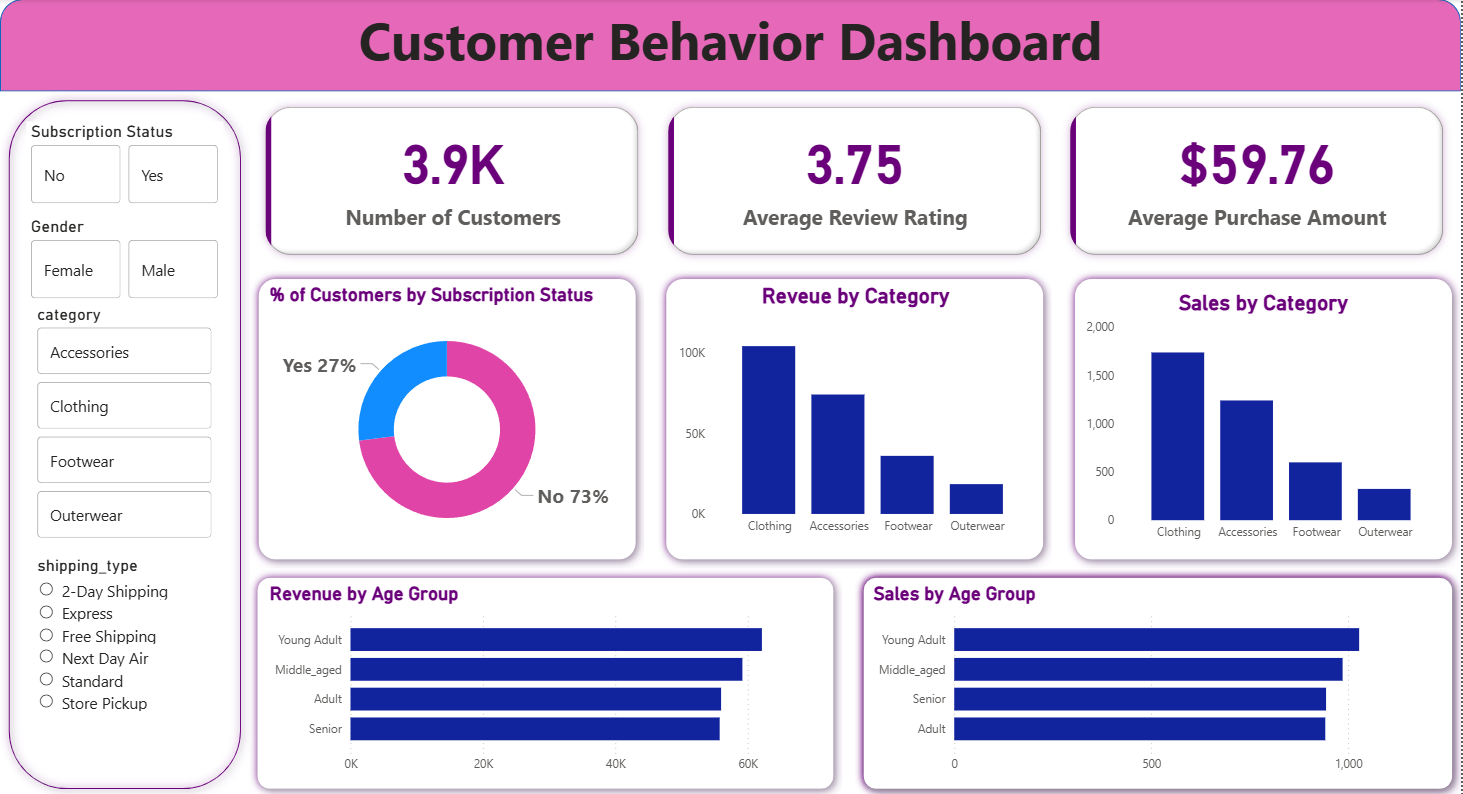

The page's visual inventory and layout, read from the dashboard file:
{"tool":"powerbi","page":{"name":"Page 1","canvas":[1500,820],"ordinal":0},"visuals":[{"type":"cardVisual","fields":{"Data":["customer_behavior customers.Number of Customers","customer_behavior customers.Average Review Rating","customer_behavior customers.Average Purchase Amount"]},"box":[256.4,94.9,1243.9,184.2],"z":0},{"type":"shape","box":[0,0,1500.3,94.9],"z":1000},{"type":"textbox","box":[0,0,1500.3,94.9],"z":2000},{"type":"shape","box":[256.4,279.1,405.2,306],"z":3000},{"type":"donutChart","title":"% of Customers by Subscription Status","fields":{"Category":["customer_behavior customers.subscription_status"],"Y":["CountNonNull(customer_behavior customers.customer_id)"]},"box":[272,293.3,374,277.7],"z":4000},{"type":"shape","box":[1095.1,279.1,405.2,306],"z":5000},{"type":"shape","box":[675.8,279.1,405.2,306],"z":6000},{"type":"clusteredColumnChart","title":"Reveue  by Category","fields":{"Y":["Sum(customer_behavior customers.purchase_amount)"],"Category":["customer_behavior customers.category"]},"box":[691.4,293.3,374,266.3],"z":7000},{"type":"clusteredColumnChart","title":"Sales  by Category","fields":{"Y":["CountNonNull(customer_behavior customers.customer_id)"],"Category":["customer_behavior customers.category"]},"box":[1110.7,298.9,374,266.3],"z":8000},{"type":"shape","box":[0,94.9,256.4,725.4],"z":9000},{"type":"advancedSlicerVisual","title":"Subscription Status","fields":{"Values":["customer_behavior customers.subscription_status"]},"box":[27.3,125.4,202.6,90.1],"z":10000},{"type":"advancedSlicerVisual","title":"Gender","fields":{"Values":["customer_behavior customers.gender"]},"box":[27.3,223.5,202.6,90.1],"z":11000},{"type":"listSlicer","fields":{"Values":["customer_behavior customers.shipping_type"]},"box":[33.8,570.9,188.1,212.3],"z":12000},{"type":"advancedSlicerVisual","fields":{"Values":["customer_behavior customers.category"]},"box":[33.8,313.6,189.8,246],"z":13000},{"type":"shape","box":[255.7,585.3,609.5,234.8],"z":14000},{"type":"clusteredBarChart","title":"Revenue by Age Group","fields":{"Y":["Sum(customer_behavior customers.purchase_amount)"],"Category":["customer_behavior customers.age_group"]},"box":[271.8,599.8,578.9,204.2],"z":15000},{"type":"shape","box":[878,585.3,622.3,234.8],"z":16000},{"type":"shape","box":[877.7,585.2,622.3,234.8],"z":17000},{"type":"clusteredBarChart","title":"Sales by Age Group","fields":{"Y":["CountNonNull(customer_behavior customers.customer_id)"],"Category":["customer_behavior customers.age_group"]},"box":[892.5,599.8,593.4,204.2],"z":18000}]}

Visuals, with their boxes in screenshot pixels (x1, y1, x2, y2), scaled from the page's 1500x820 canvas onto the 1463x794 screenshot:
cardVisual - customer_behavior customers.Number of Customers x customer_behavior customers.Average Review Rating: 250:92:1462:270
shape: 0:0:1462:92
textbox: 0:0:1462:92
shape: 250:270:645:567
"% of Customers by Subscription Status" donutChart: 265:284:630:553
shape: 1068:270:1462:567
shape: 659:270:1054:567
"Reveue  by Category" clusteredColumnChart: 674:284:1039:542
"Sales  by Category" clusteredColumnChart: 1083:289:1448:547
shape: 0:92:250:793
"Subscription Status" advancedSlicerVisual: 27:121:224:209
"Gender" advancedSlicerVisual: 27:216:224:304
listSlicer - customer_behavior customers.shipping_type: 33:553:216:758
advancedSlicerVisual - customer_behavior customers.category: 33:304:218:542
shape: 249:567:844:793
"Revenue by Age Group" clusteredBarChart: 265:581:830:779
shape: 856:567:1462:793
shape: 856:567:1462:793
"Sales by Age Group" clusteredBarChart: 870:581:1449:779
